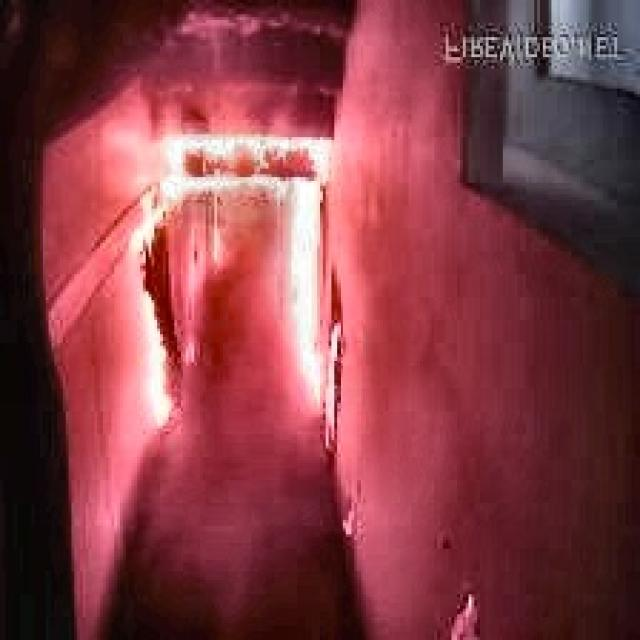fire: (121, 123, 373, 440)
